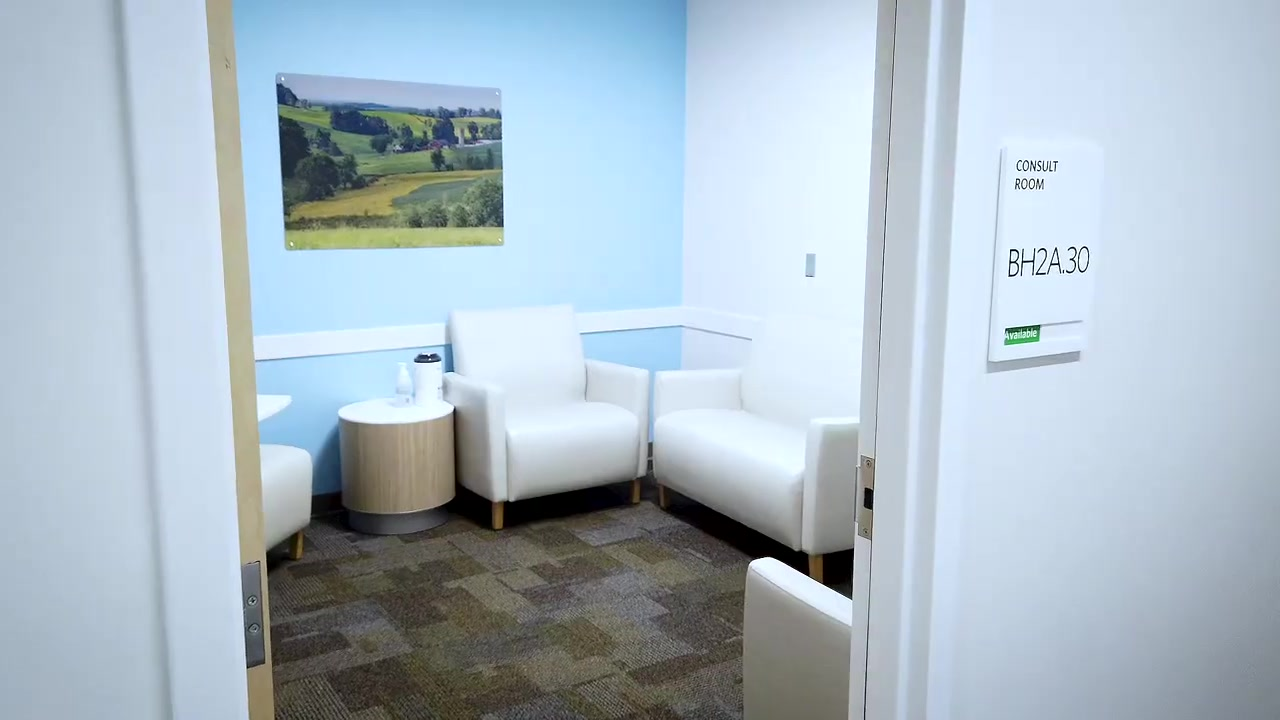dispenser: (386, 361, 414, 410)
sofa: (653, 317, 863, 584), (441, 302, 650, 529), (742, 557, 852, 720), (256, 394, 313, 559)
table: (337, 397, 455, 535)
